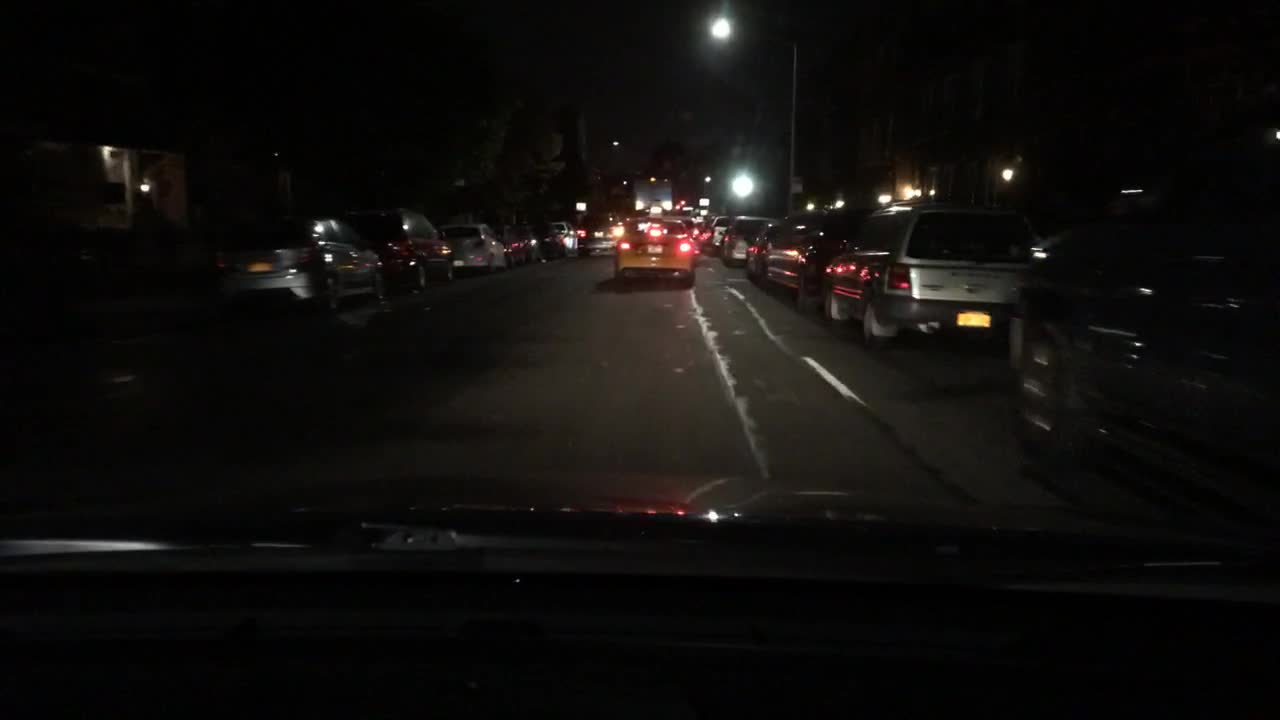car: (1008, 172, 1276, 531), (821, 198, 1039, 351), (215, 210, 385, 316), (341, 207, 455, 293), (746, 207, 829, 313), (616, 198, 697, 288), (436, 223, 511, 277), (718, 217, 777, 265), (486, 220, 545, 267), (576, 212, 623, 257), (530, 219, 580, 259), (665, 217, 711, 250), (708, 214, 732, 252)
traffic sign: (789, 173, 803, 192), (575, 200, 586, 212), (698, 197, 709, 208)
